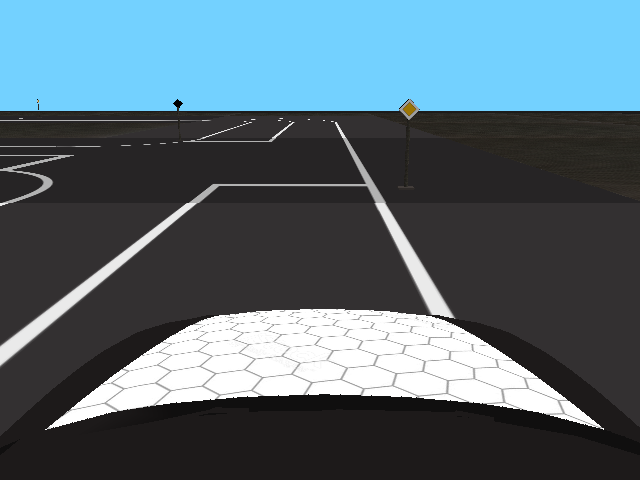yellow_light: (398, 98, 420, 121)
